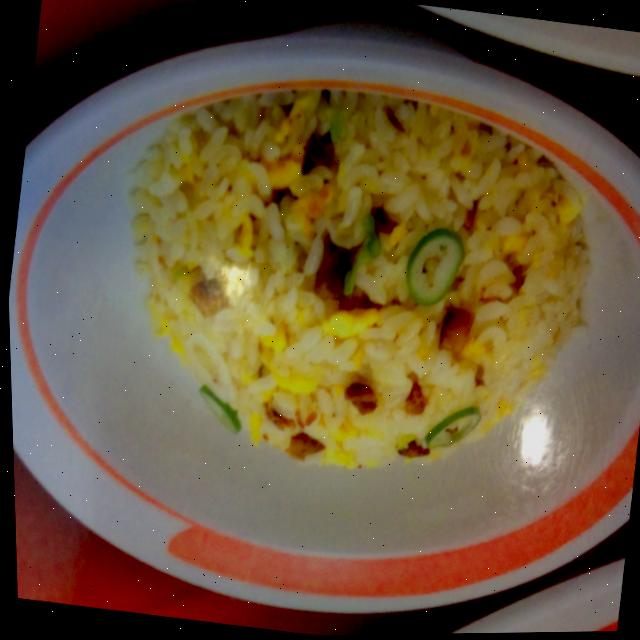米饭主食: (71, 58, 623, 517)
